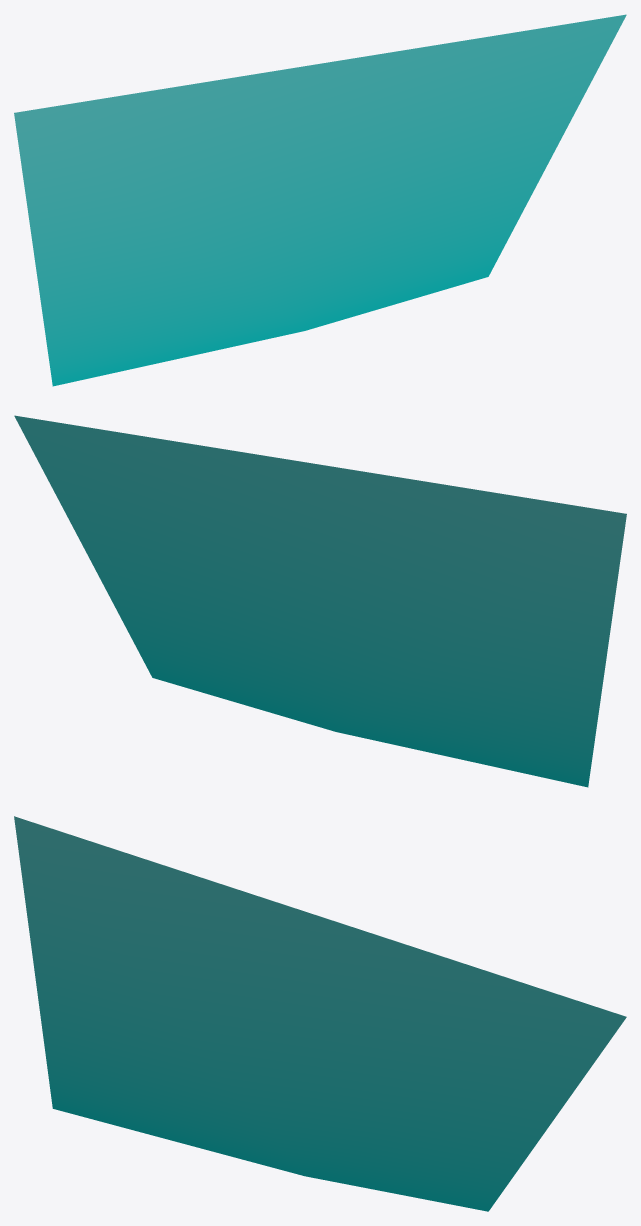
Rendered from Matted_Pratia_uegjcflia_Mid_uegjcflia_VarD_LOD2.fbx.
The picture shows the model from 3 angles, top to bottom: view 1: azimuth 30°, elevation 25°; view 2: azimuth 150°, elevation 25°; view 3: azimuth 330°, elevation 25°; orthographic projection.
Visible parts, largest first — view 1: _493c_VarD_LOD3; view 2: _493c_VarD_LOD3; view 3: _493c_VarD_LOD3.
Part boxes in pixels (x1,y1,x2,y2): _493c_VarD_LOD3: [14, 14, 626, 386]; _493c_VarD_LOD3: [14, 415, 626, 787]; _493c_VarD_LOD3: [14, 816, 626, 1211].
Bounding box in the file's own units: 16.1 × 7.26 × 0.
